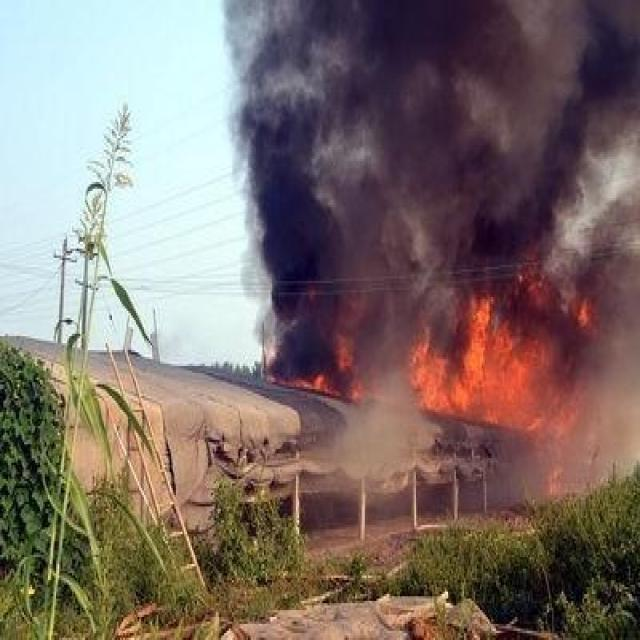Smoke: (217, 0, 640, 513)
